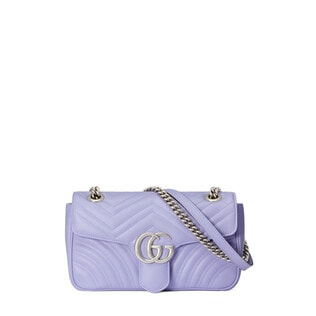Gucci: (60, 180, 251, 300), (81, 196, 202, 238), (128, 225, 185, 267)
